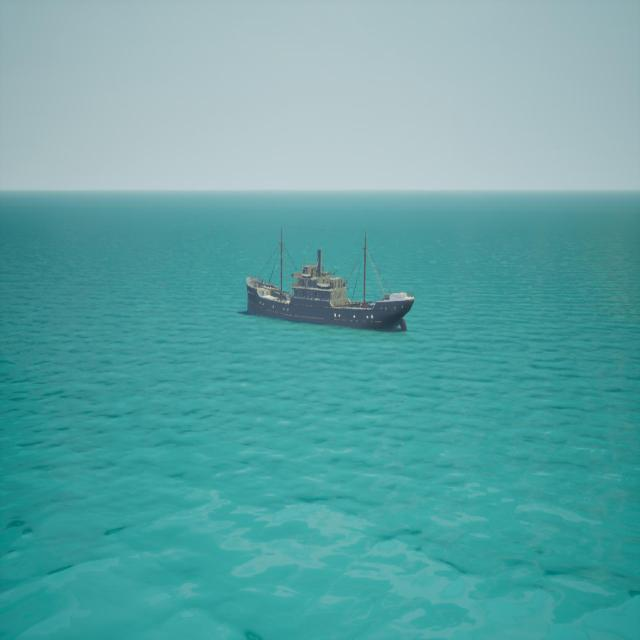fishing ship: (246, 236, 416, 334)
